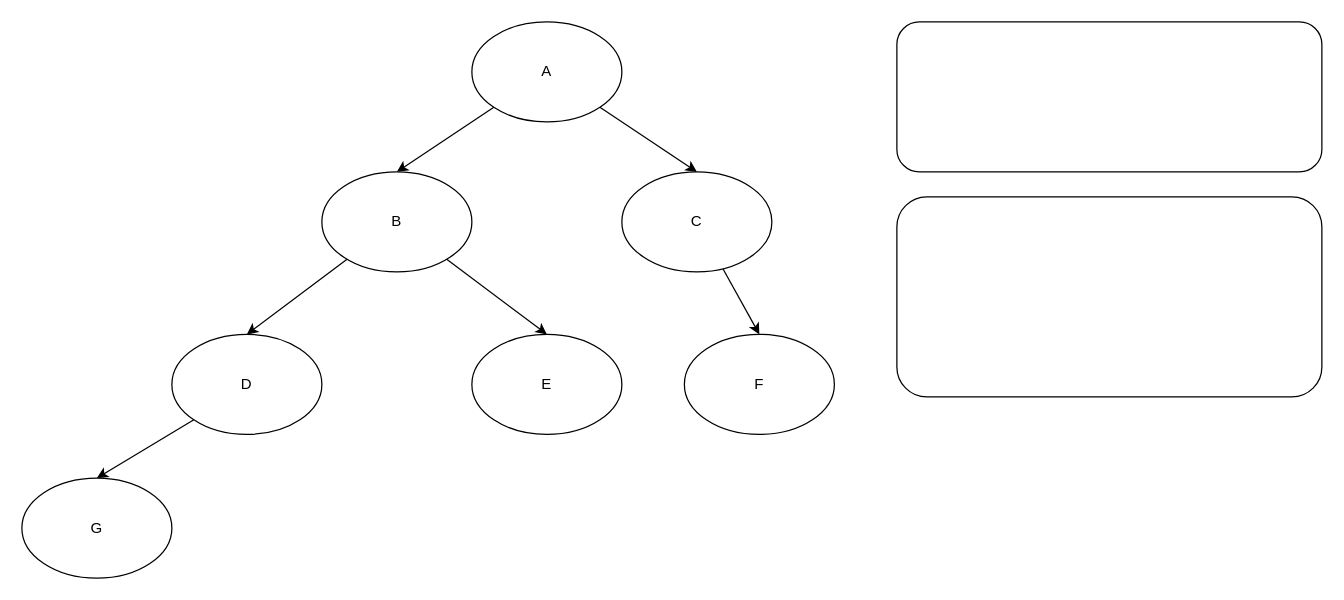
Some shapes in this 1344 by 600 pixel diagram are drawn without their labels. The centre of each missing label's shape, as x and y in pixels:
"T11={D,G}" belongs at point 1109,296.
"T1={BDEG} T2={C,F}" belongs at point 1109,96.
